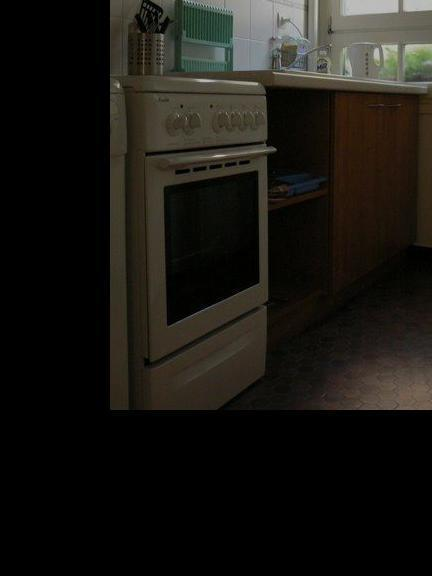Bote de Basura: (113, 63, 267, 404)
